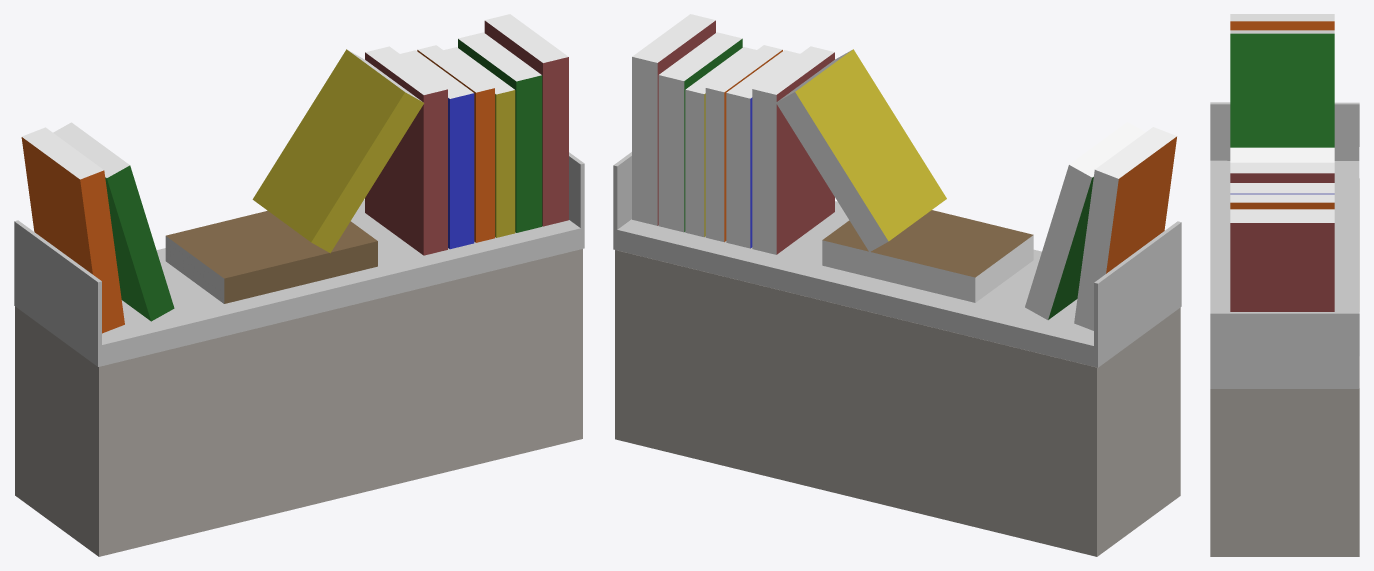
Rendered from ReceptionDesk_02.glb.
3 views of the same model, side by side, from view 1: azimuth 30°, elevation 25°; view 2: azimuth 150°, elevation 25°; view 3: azimuth 270°, elevation 25° (orthographic). The views are drawn at different scales.
Visible parts, largest first — view 1: WallBookshelf02; view 2: WallBookshelf02; view 3: WallBookshelf02.
Boxes of the visible parts, x1,y1,x2,y2 form: WallBookshelf02: (14,14,584,556); WallBookshelf02: (613,14,1181,556); WallBookshelf02: (1210,14,1359,556).
Bounding box in the file's own units: 5.43 × 3.99 × 1.6.
Materials: 2 (1 with a texture image).
